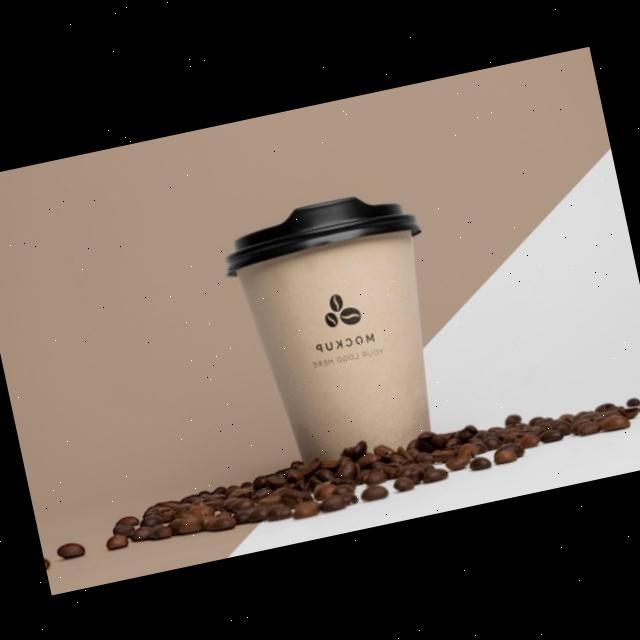trash: (214, 179, 466, 473)
